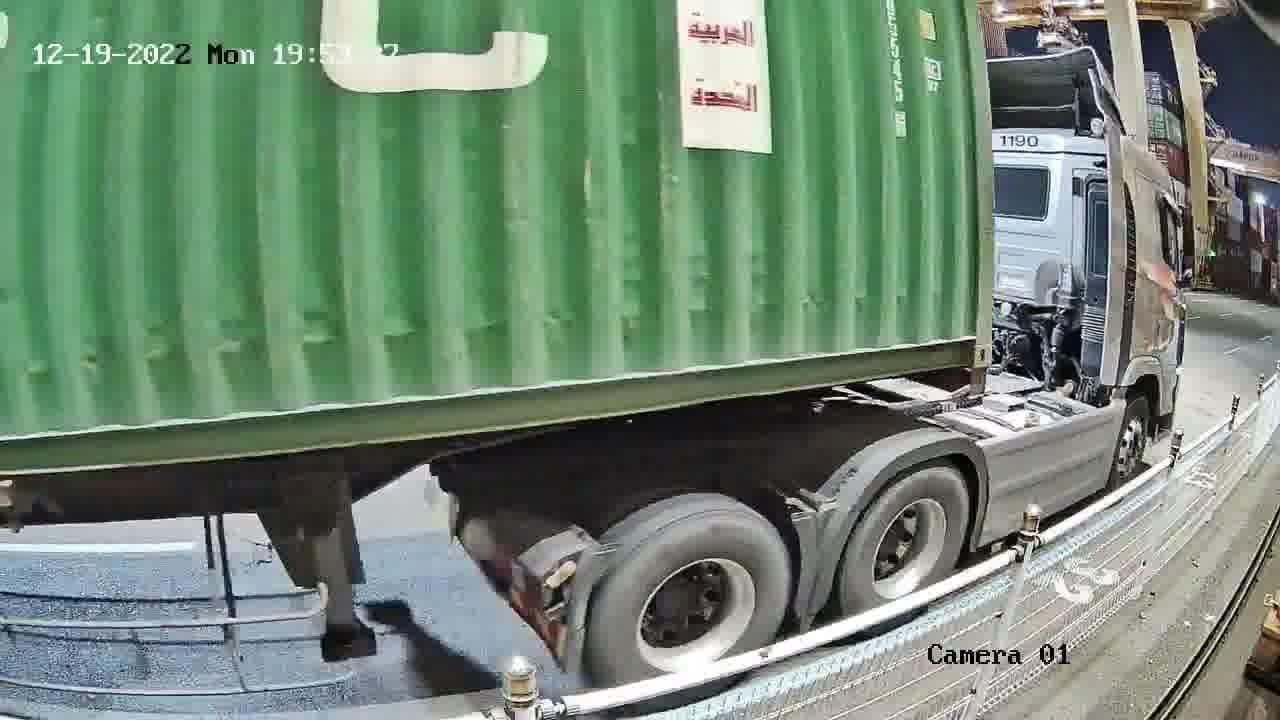Cone: (962, 371, 988, 397)
Hole_R: (941, 306, 993, 367)
Tire: (590, 512, 788, 684), (844, 471, 968, 610)
